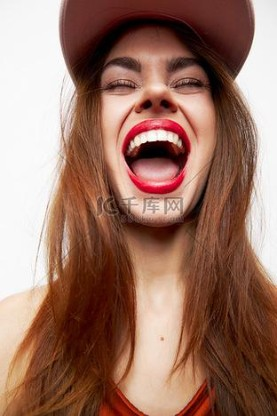张嘴: (111, 119, 203, 193)
